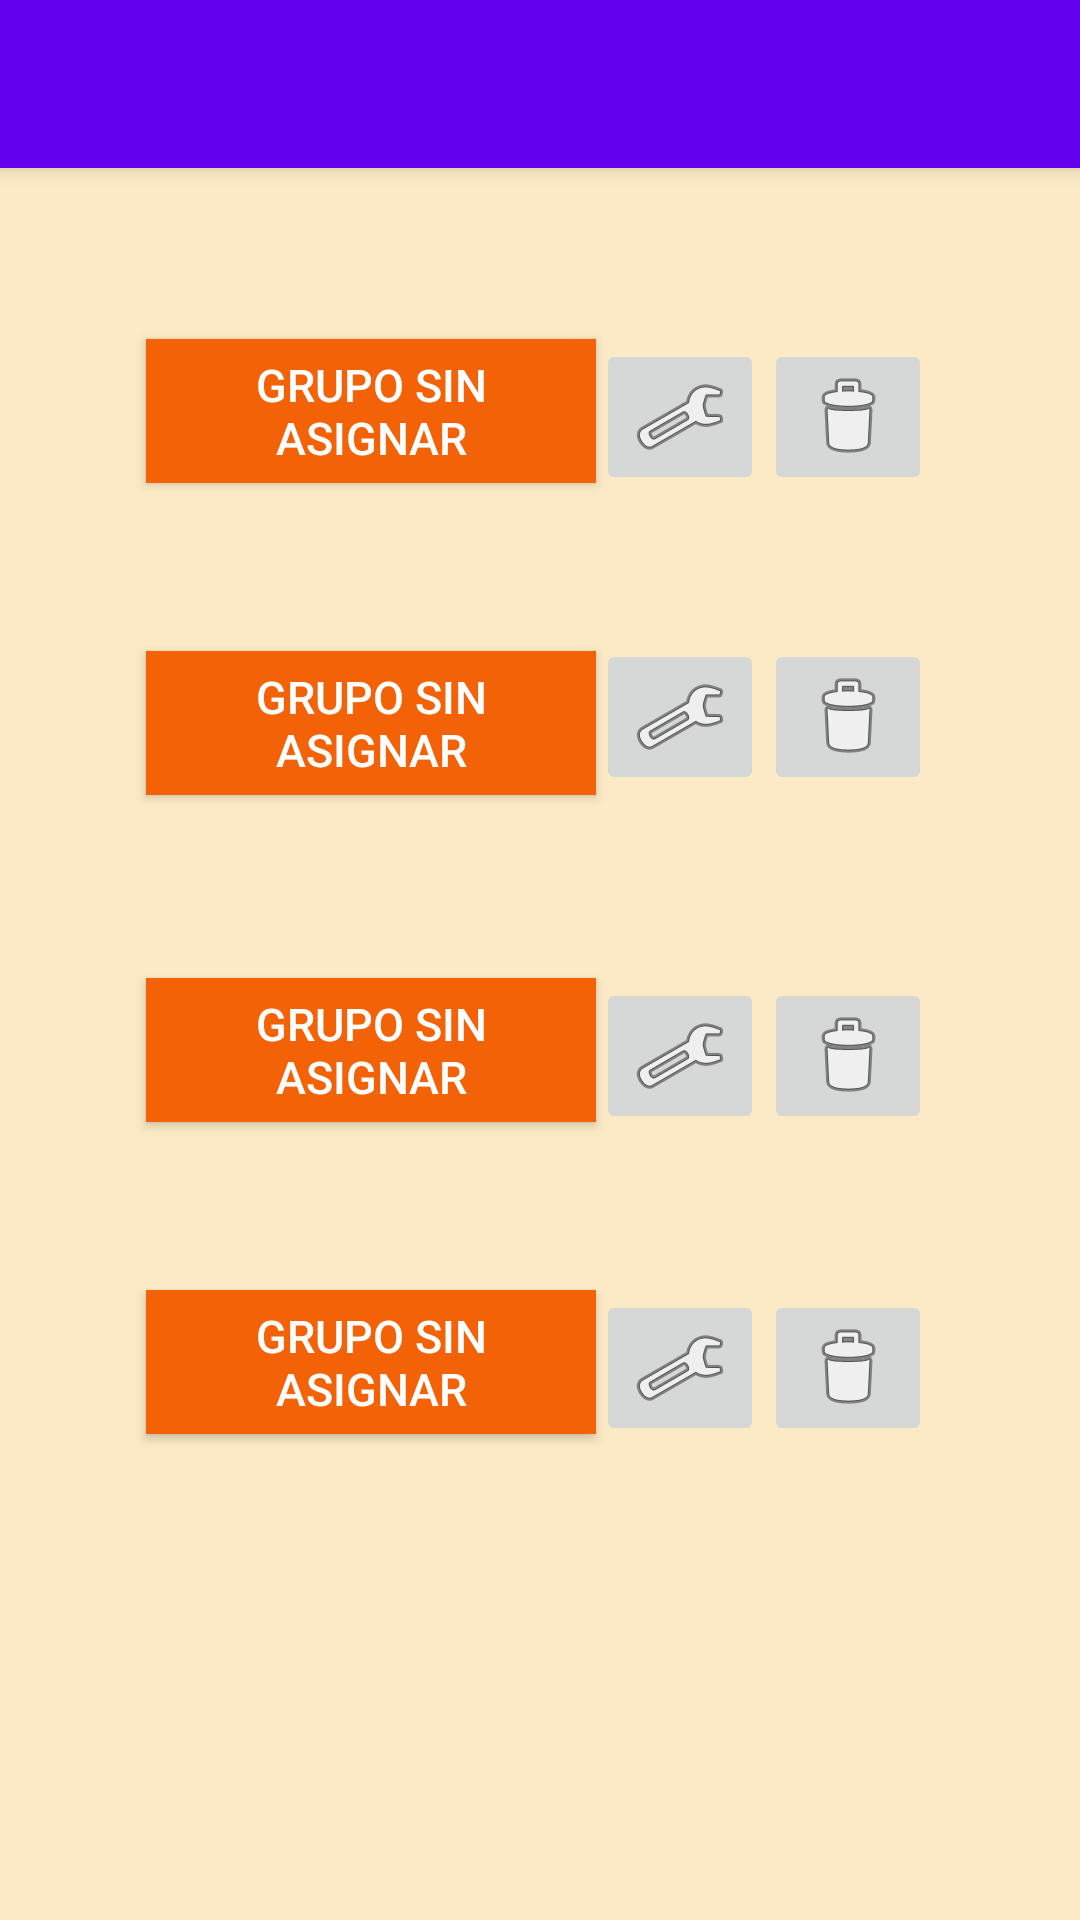

Where to tap for icons on this 1080*1920 app screen, as (x,y):
delete: (848,417), (848,717), (848,1056), (848,1368)
preferences: (680,417), (680,717), (680,1056), (680,1368)
